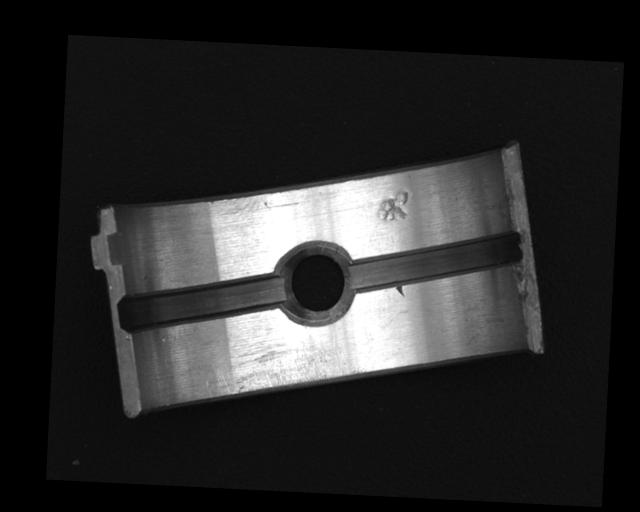bruise: (375, 187, 411, 223), (394, 284, 406, 298)
gap: (347, 225, 525, 300), (116, 264, 287, 338)
hole: (274, 241, 356, 325)
scratch: (204, 326, 359, 407)
